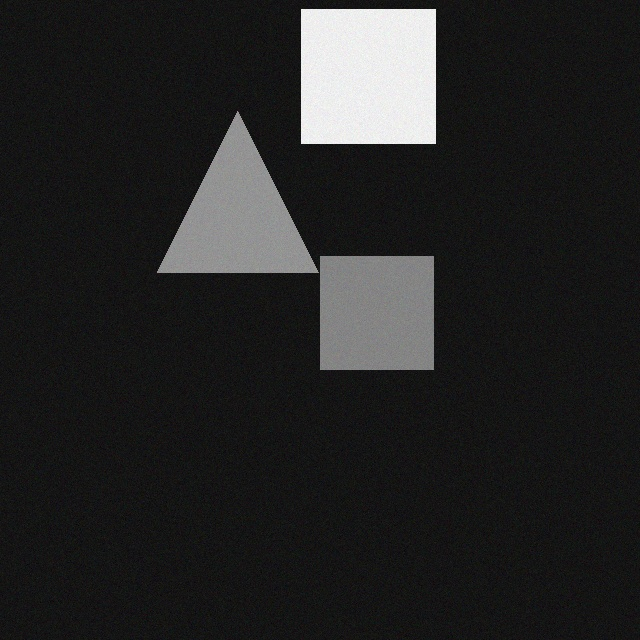square: (304, 20, 438, 154), (323, 267, 436, 380)
triangle: (160, 122, 321, 283)
